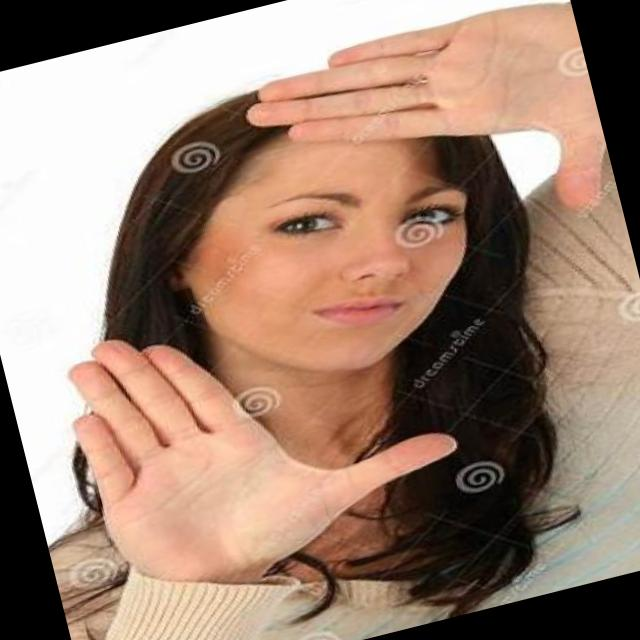not-gloved: (23, 234, 495, 630), (222, 0, 614, 262)
